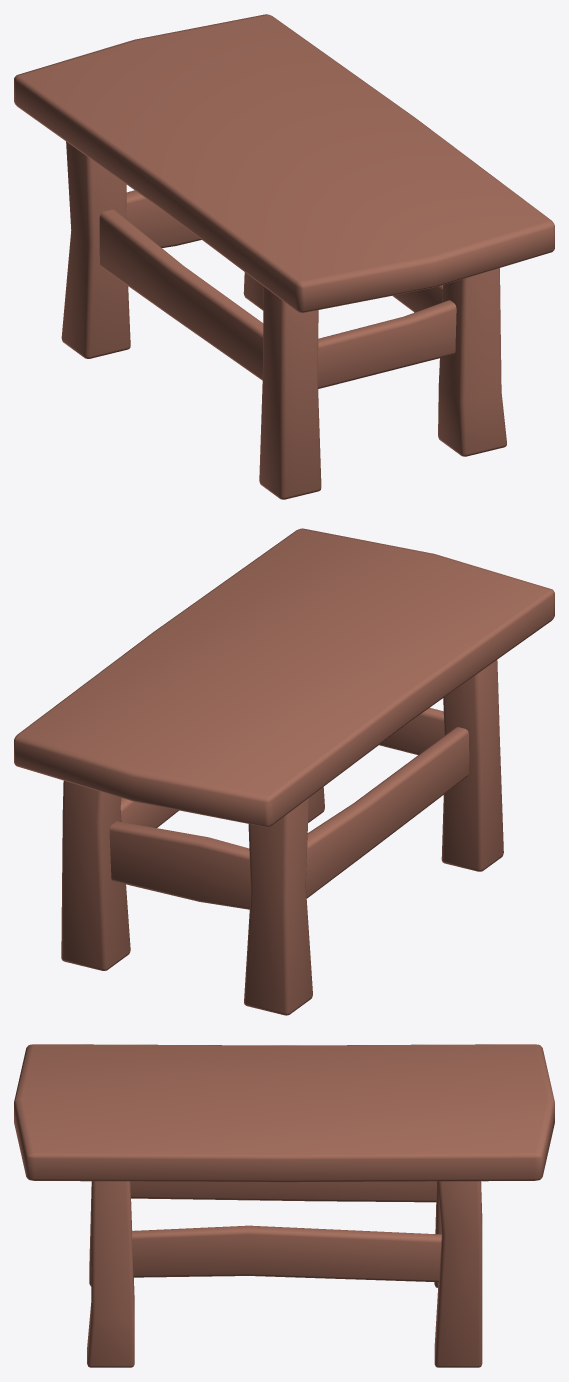
File: CouchTable.fbx
3 views of the same model, one above another, from view 1: azimuth 30°, elevation 25°; view 2: azimuth 150°, elevation 25°; view 3: azimuth 270°, elevation 25° (orthographic). The views are drawn at different scales.
Parts seen in each view (by area): view 1: Cube.030; view 2: Cube.030; view 3: Cube.030.
Part boxes in pixels (left/top/right/bottom): Cube.030: left=14, top=14, right=554, bottom=499; Cube.030: left=14, top=528, right=554, bottom=1015; Cube.030: left=14, top=1044, right=554, bottom=1367.
Size of the model in its own units: 81.71 by 74.01 by 164.
